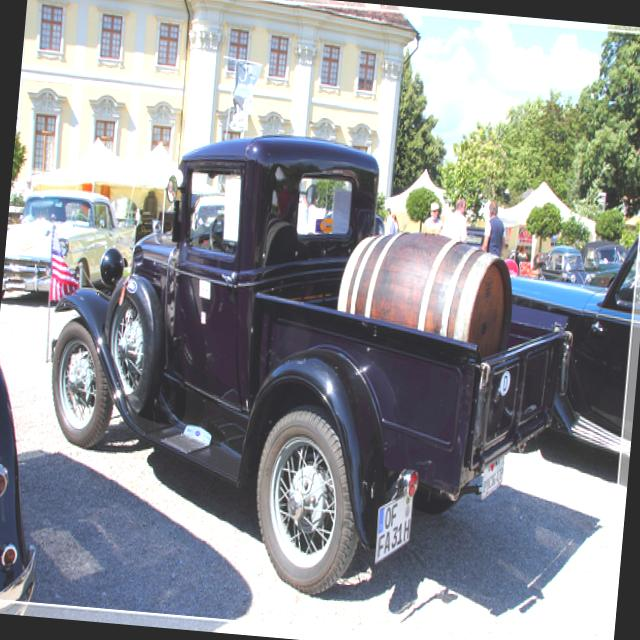Vehicle: (29, 115, 587, 615), (495, 212, 640, 446), (494, 210, 640, 441), (0, 182, 140, 308), (0, 340, 54, 615), (576, 240, 630, 288), (541, 242, 596, 286), (190, 192, 227, 236)
